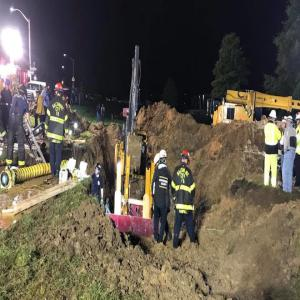blue: (18, 83, 28, 100), (94, 163, 102, 177), (5, 78, 11, 91)
red: (55, 82, 64, 99), (182, 152, 190, 168)
white: (160, 150, 168, 167), (270, 110, 278, 123), (287, 115, 294, 128), (282, 116, 288, 130)
